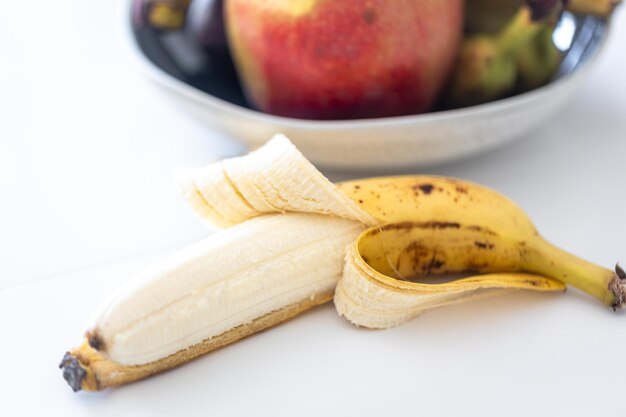banana: (48, 136, 626, 400)
